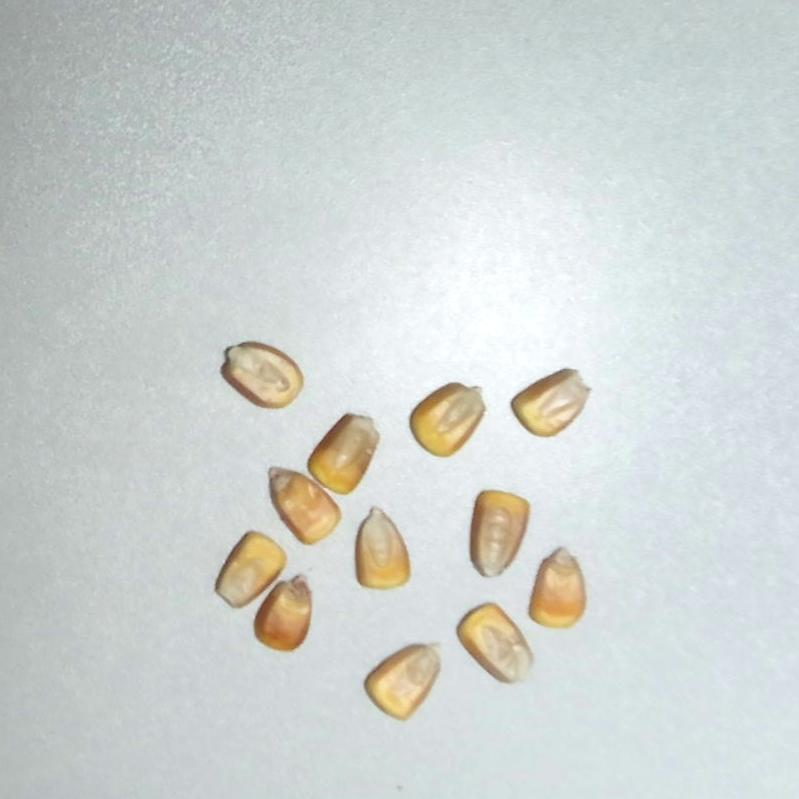corn: (357, 623, 460, 728), (449, 595, 549, 697), (211, 323, 313, 422), (401, 364, 499, 466), (252, 450, 348, 551), (301, 402, 389, 500), (507, 357, 601, 447), (205, 524, 293, 617), (247, 565, 329, 659), (523, 543, 601, 637), (460, 486, 532, 583), (352, 505, 411, 592)
